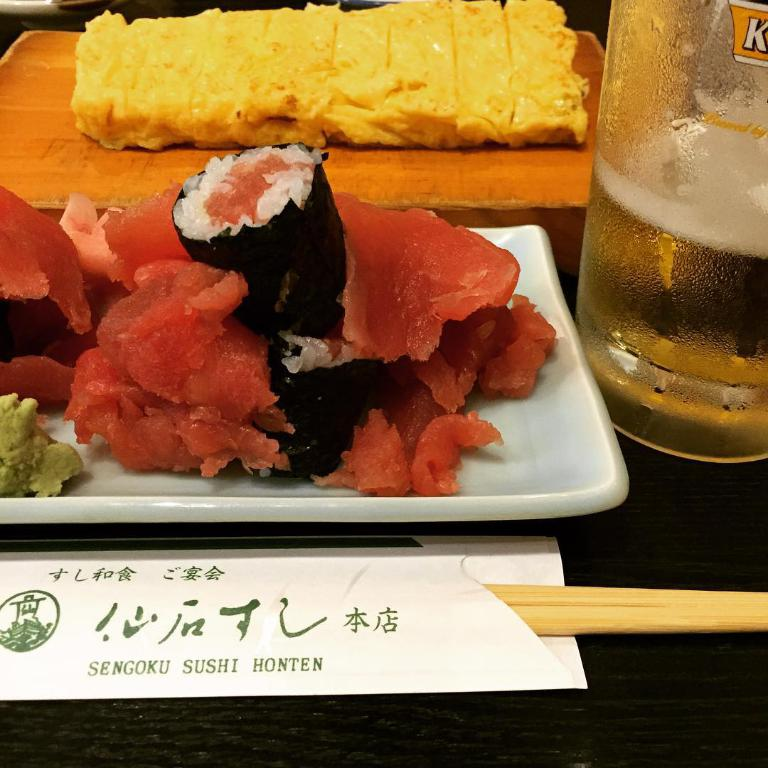sushi: (175, 149, 347, 326)
